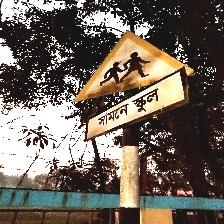School-in-front: (73, 31, 194, 142)
